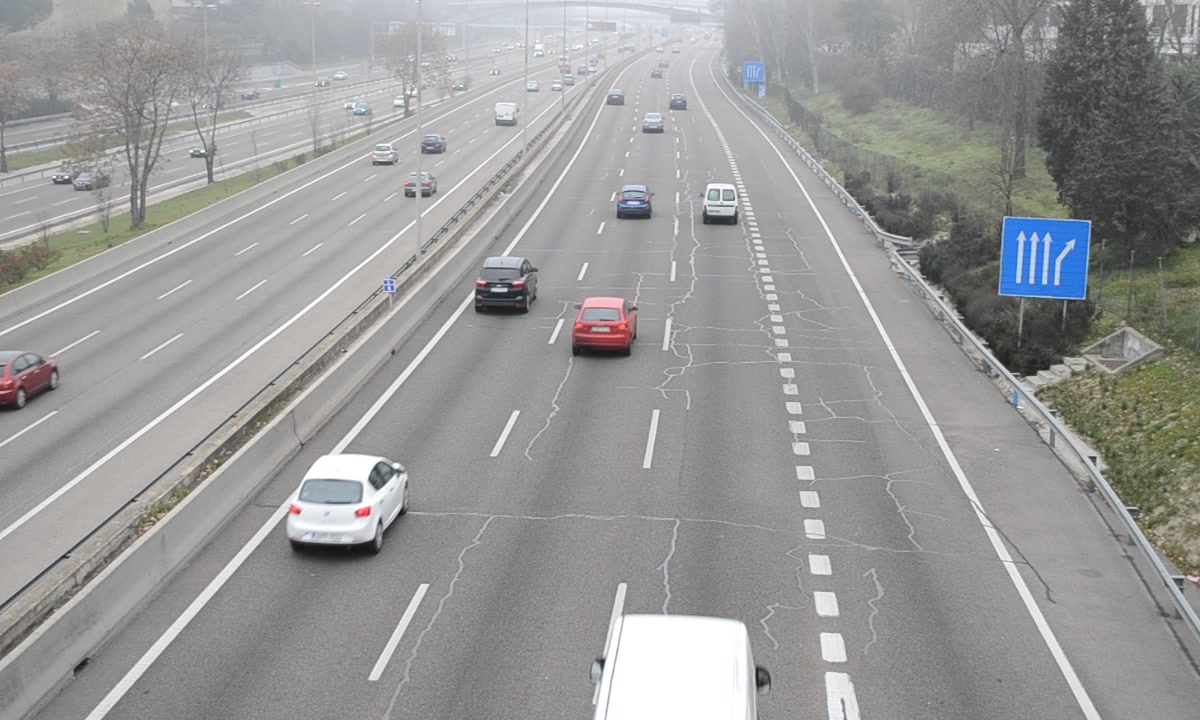car: (288, 454, 408, 546), (476, 257, 535, 311), (573, 297, 634, 349), (617, 185, 651, 215), (642, 112, 665, 134)
van: (594, 615, 757, 720), (702, 182, 738, 220)
